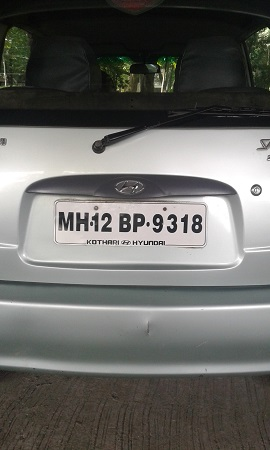licenseplate: (55, 200, 213, 251)
